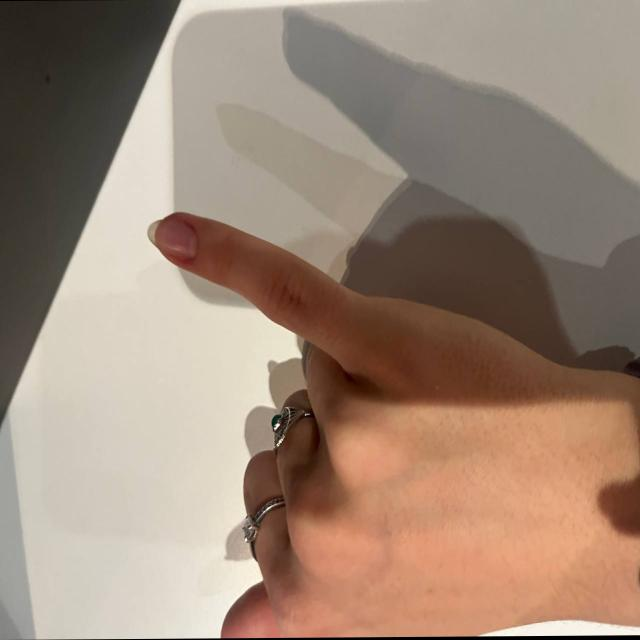u: (144, 190, 548, 637)
